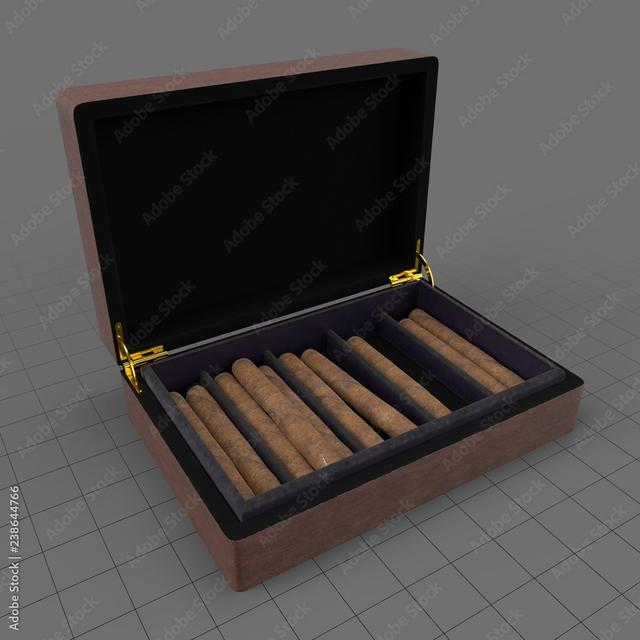Cigar: (164, 305, 525, 505)
